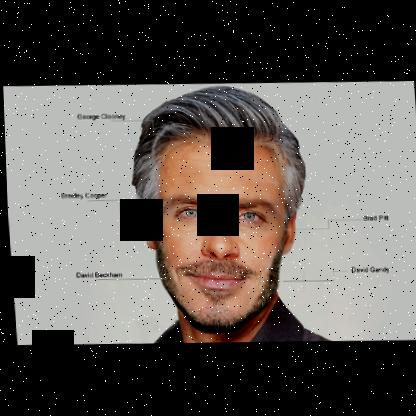Male: (131, 129, 303, 329)
